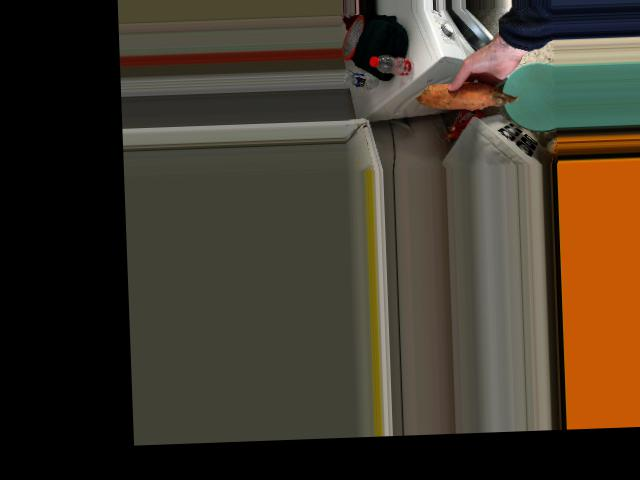sweet_potato: (428, 77, 509, 110)
